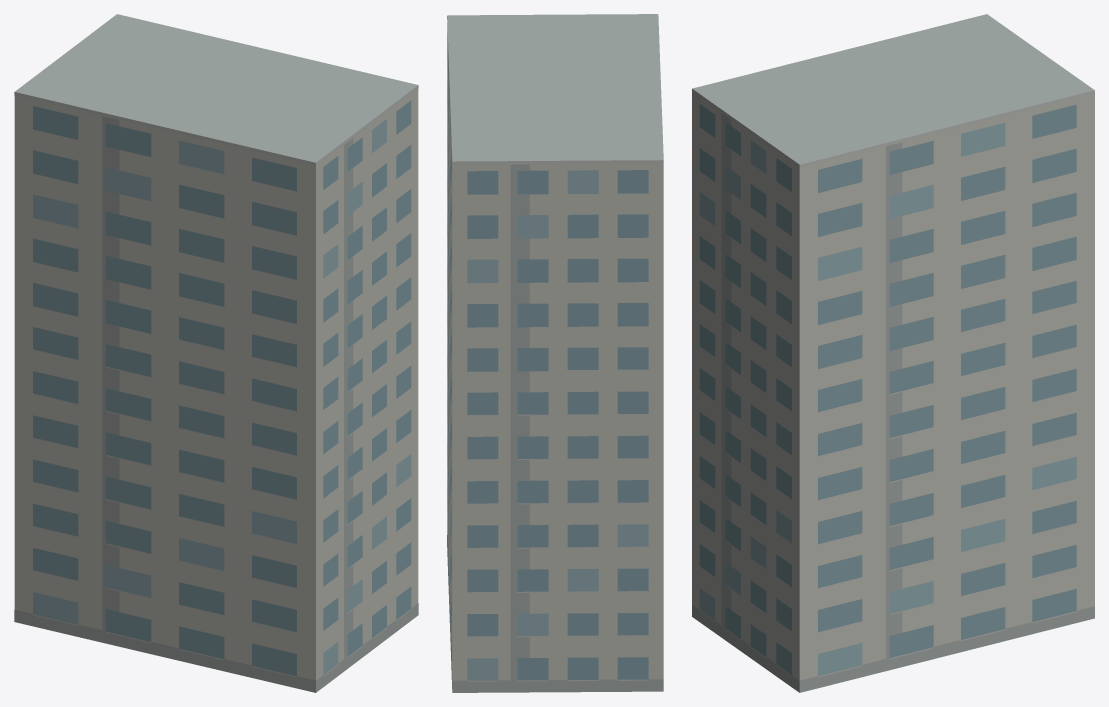
Rendered from residential-c3db3ce7-f59a-4d77-bb5c-bd4f01074e05.glb.
The picture shows the model from 3 angles, left to right: view 1: azimuth 30°, elevation 25°; view 2: azimuth 150°, elevation 25°; view 3: azimuth 270°, elevation 25°; orthographic projection.
Visible parts, largest first — view 1: residential-c3db3ce7-f59a-4d77-bb5c-bd4f01074e05.tmp; view 2: residential-c3db3ce7-f59a-4d77-bb5c-bd4f01074e05.tmp; view 3: residential-c3db3ce7-f59a-4d77-bb5c-bd4f01074e05.tmp.
Boxes of the visible parts, <box> form: residential-c3db3ce7-f59a-4d77-bb5c-bd4f01074e05.tmp: <box>14,14,418,692</box>; residential-c3db3ce7-f59a-4d77-bb5c-bd4f01074e05.tmp: <box>447,14,663,692</box>; residential-c3db3ce7-f59a-4d77-bb5c-bd4f01074e05.tmp: <box>692,14,1094,692</box>.
Size of the model in its own units: 22.65 by 37 by 25.58.
